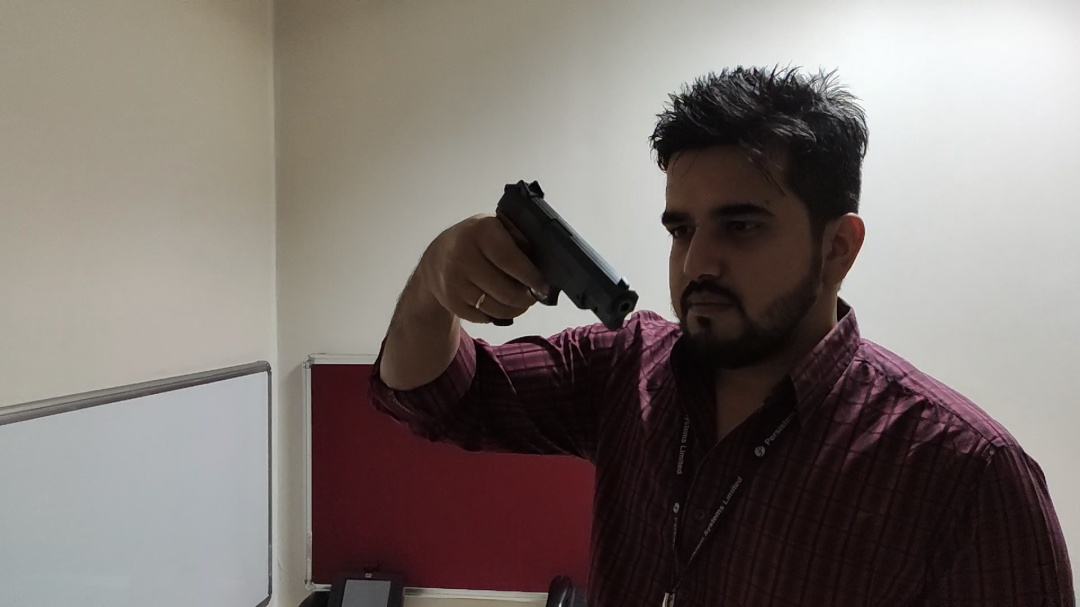gun: (472, 178, 640, 340)
